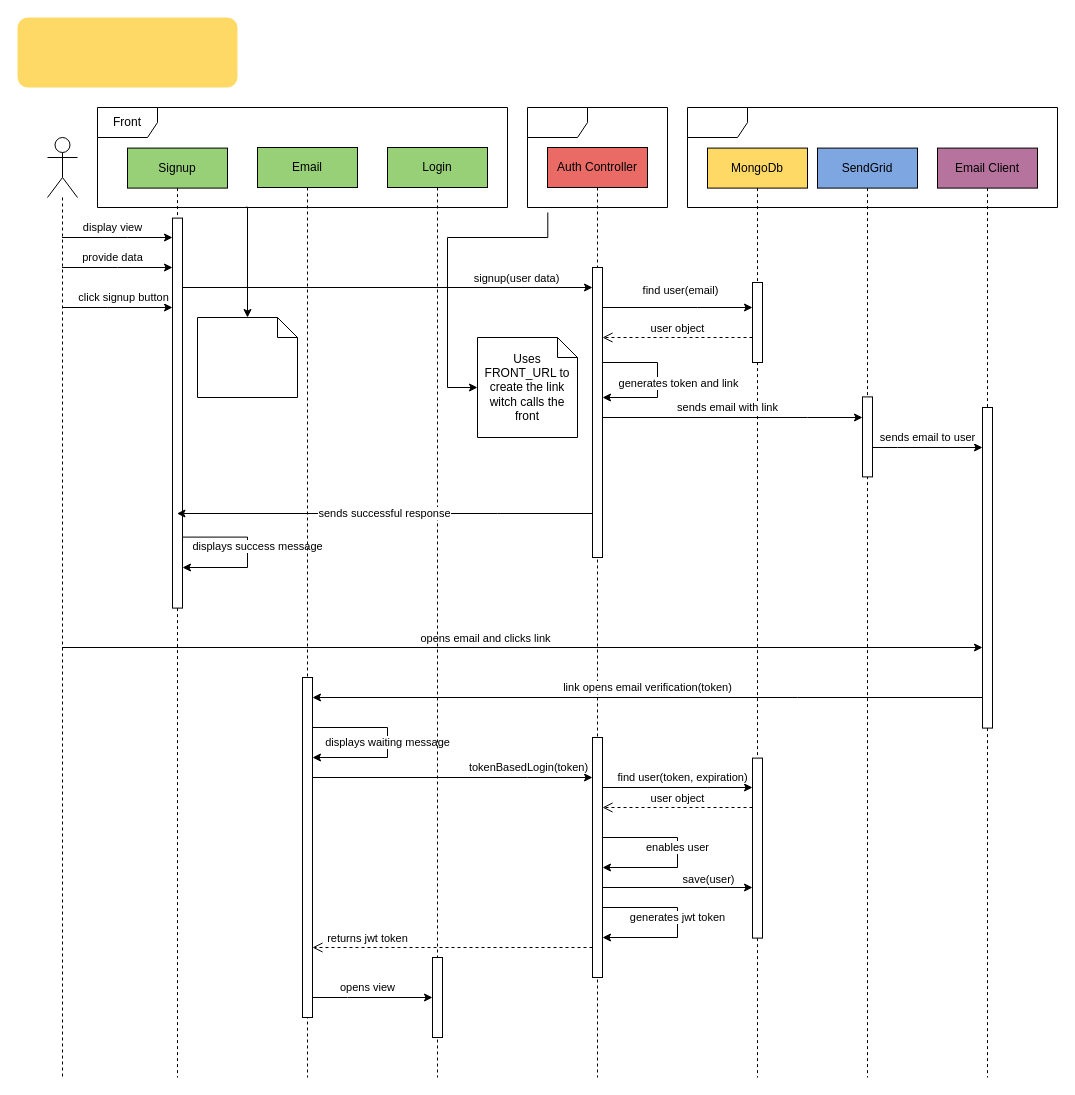
The diagram is 1075 pixels wide and 1095 high, and some of its shapes have lost their labels. Each missing label, with the centre of its shape:
Back: the point at 597,157
External: the point at 872,157
Signup Flow: the point at 127,52
uses API_URL to call Back: the point at 247,357
